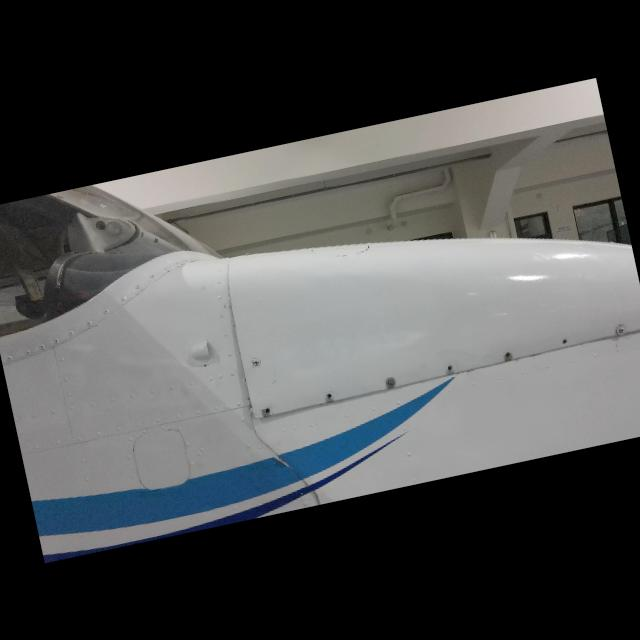Missing Fastener: (325, 390, 334, 399), (560, 336, 569, 345), (446, 364, 454, 371), (502, 349, 510, 356), (266, 406, 272, 413)
